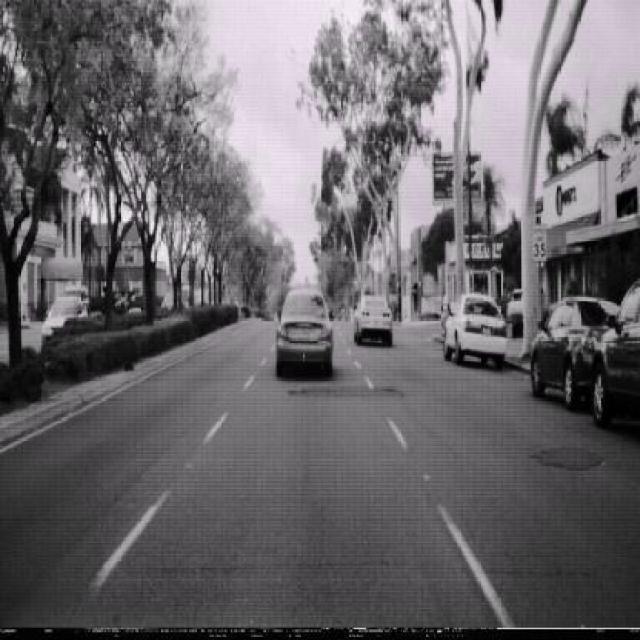speedLimit35: (531, 223, 547, 263)
